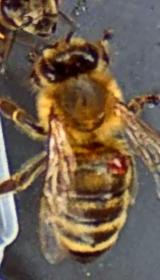varroa_mite: (98, 151, 133, 180)
